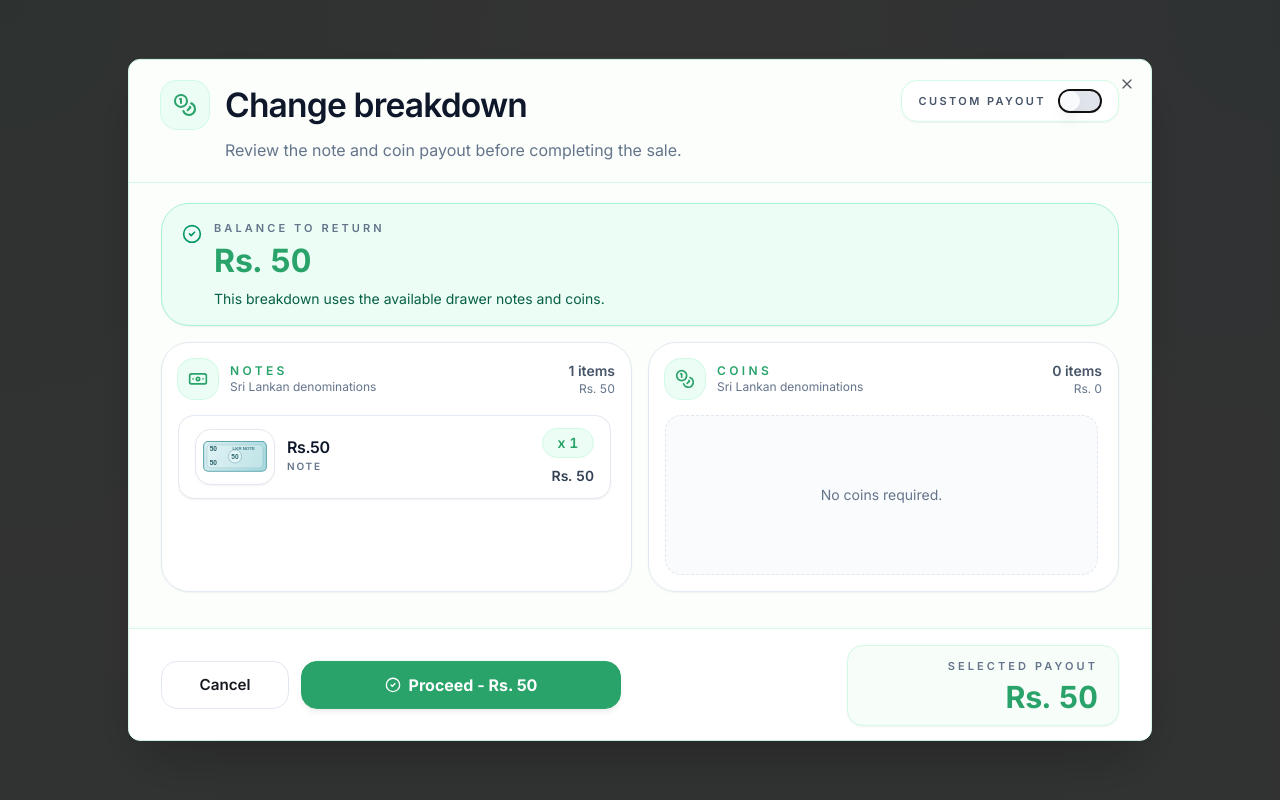
Test case: CashChangeDialog › switches to the editable visual counter when custom payout is enabled
The width and height of the screenshot is (1280, 800).
What coordinates should you click on to do the following:
click the switch named "Enable custom payout"
I would click on:
 (1080, 101)
Its box is [1058,89,1102,113].
(page scrolled)
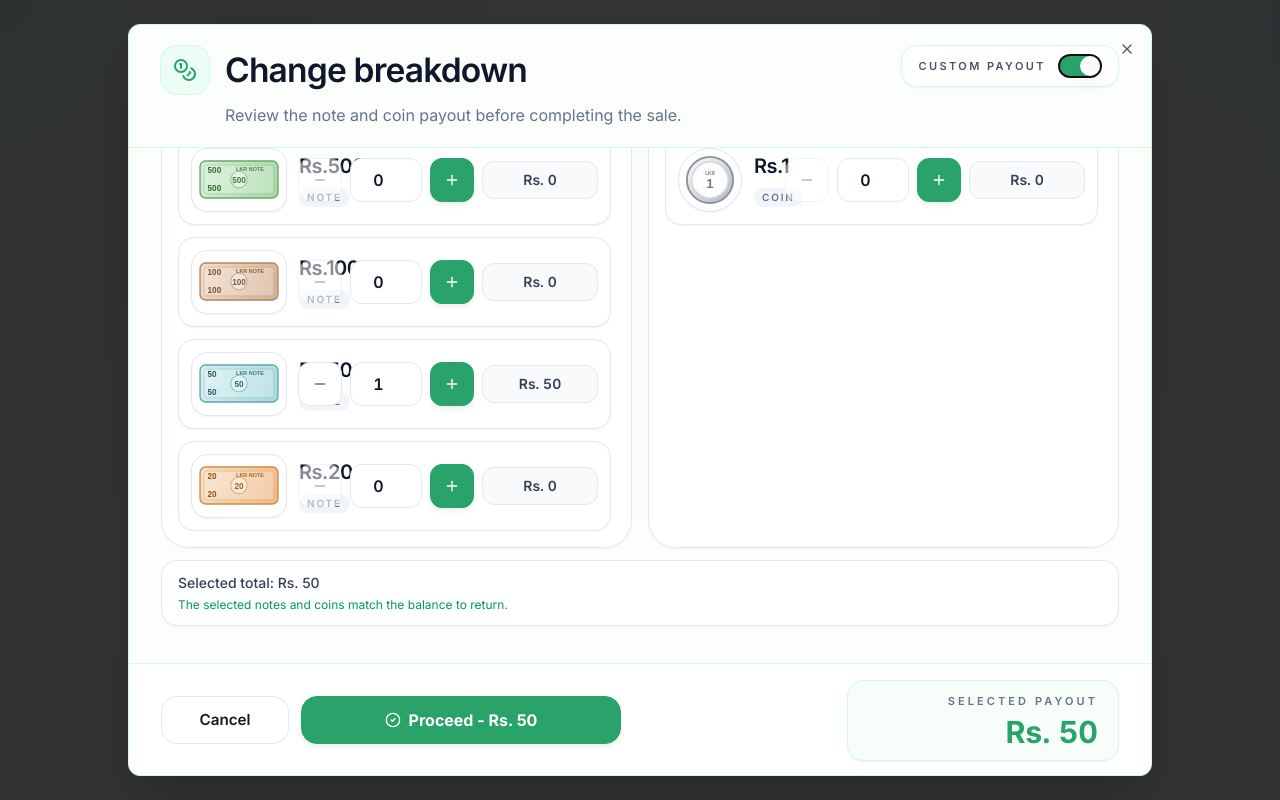
Expected: the number field named "50 quantity" is shown, [350,362,422,406]
Expected: the text "The selected notes and coins match the balance to return." is shown, [178,597,508,612]
